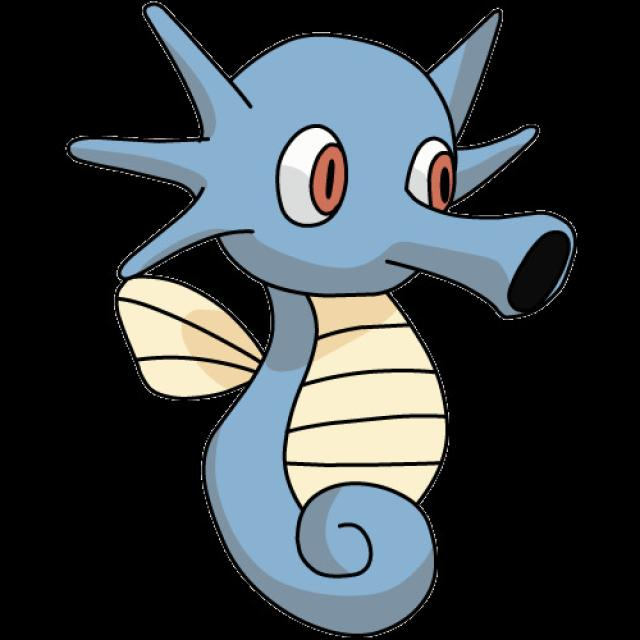Horsea: (110, 4, 553, 640)
